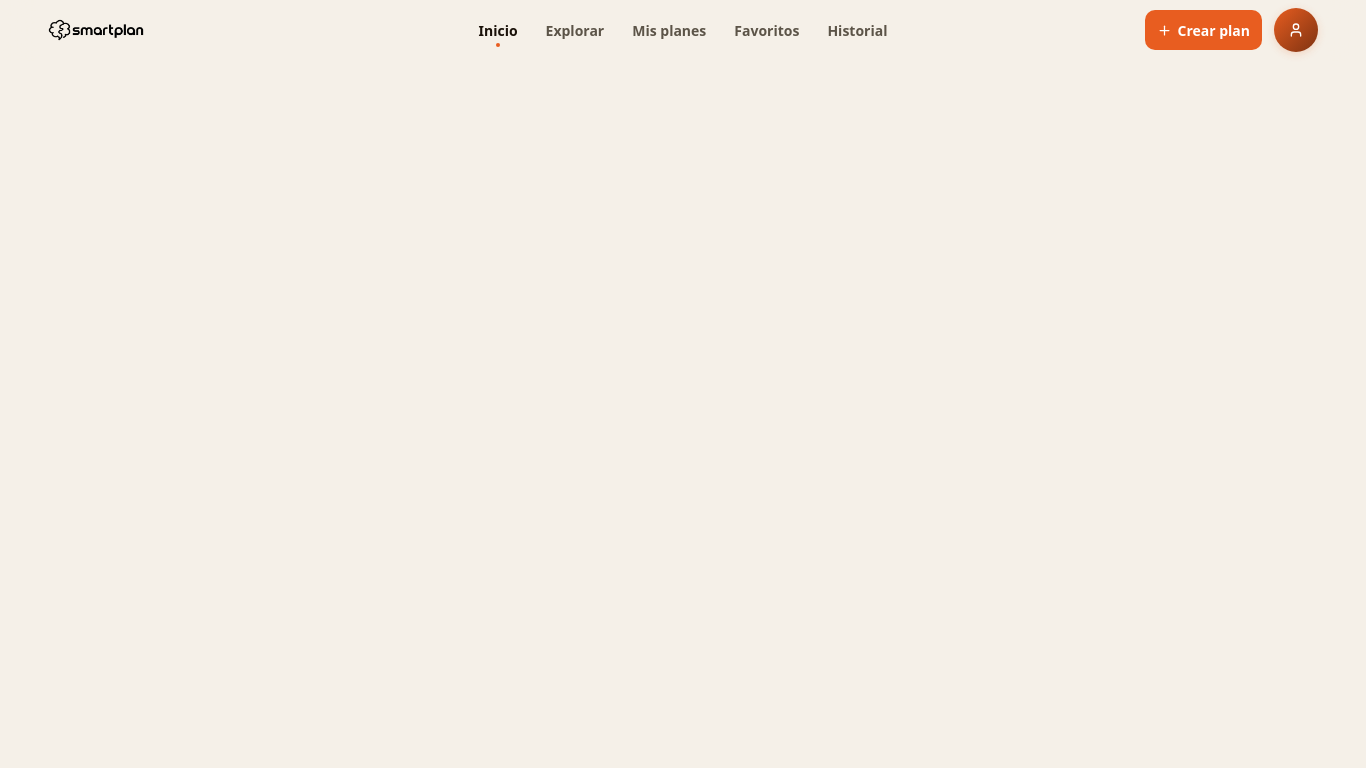
Test case: Navbar › keeps the session open when the logout confirmation is cancelled
Click the button named "mi cuenta": (1296, 30) left=1274, top=8, right=1318, bottom=52
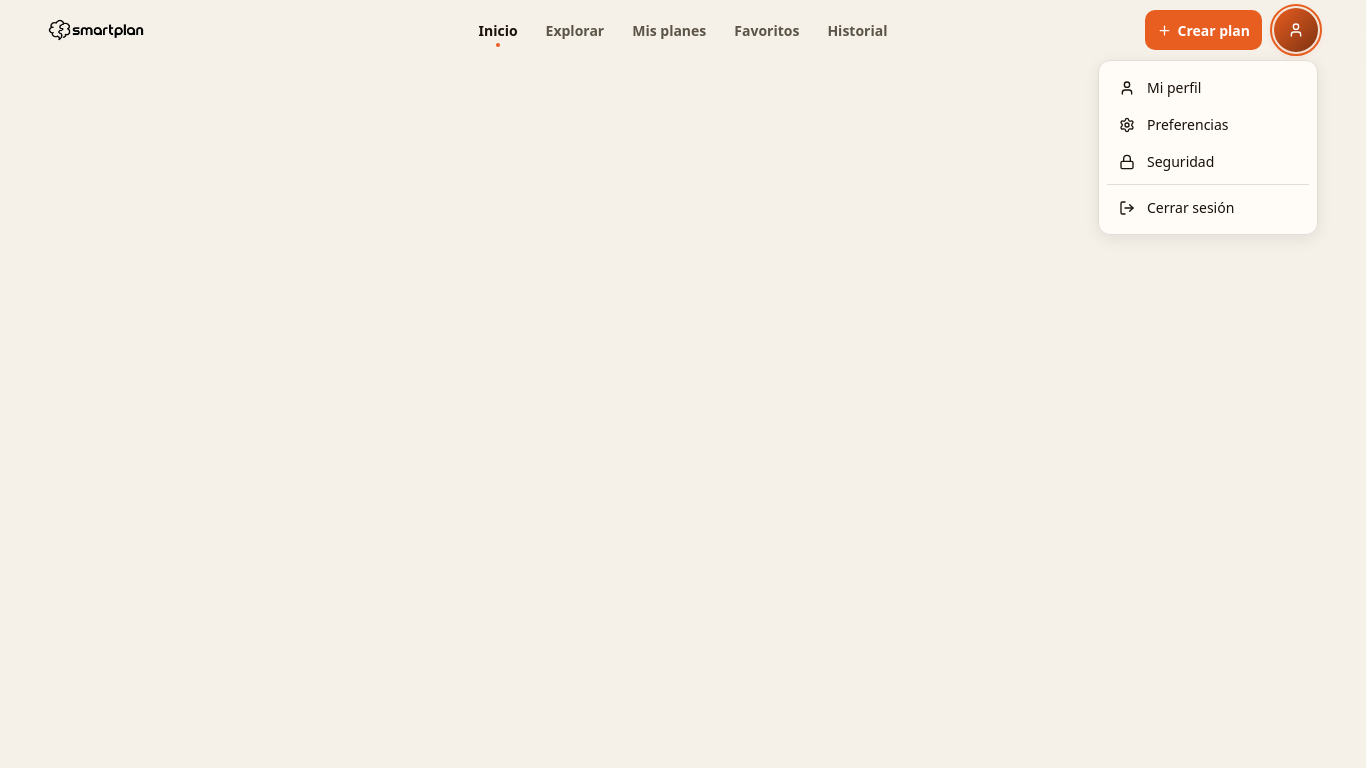
Click the button "Cerrar sesión": (1208, 208) left=1107, top=189, right=1309, bottom=226
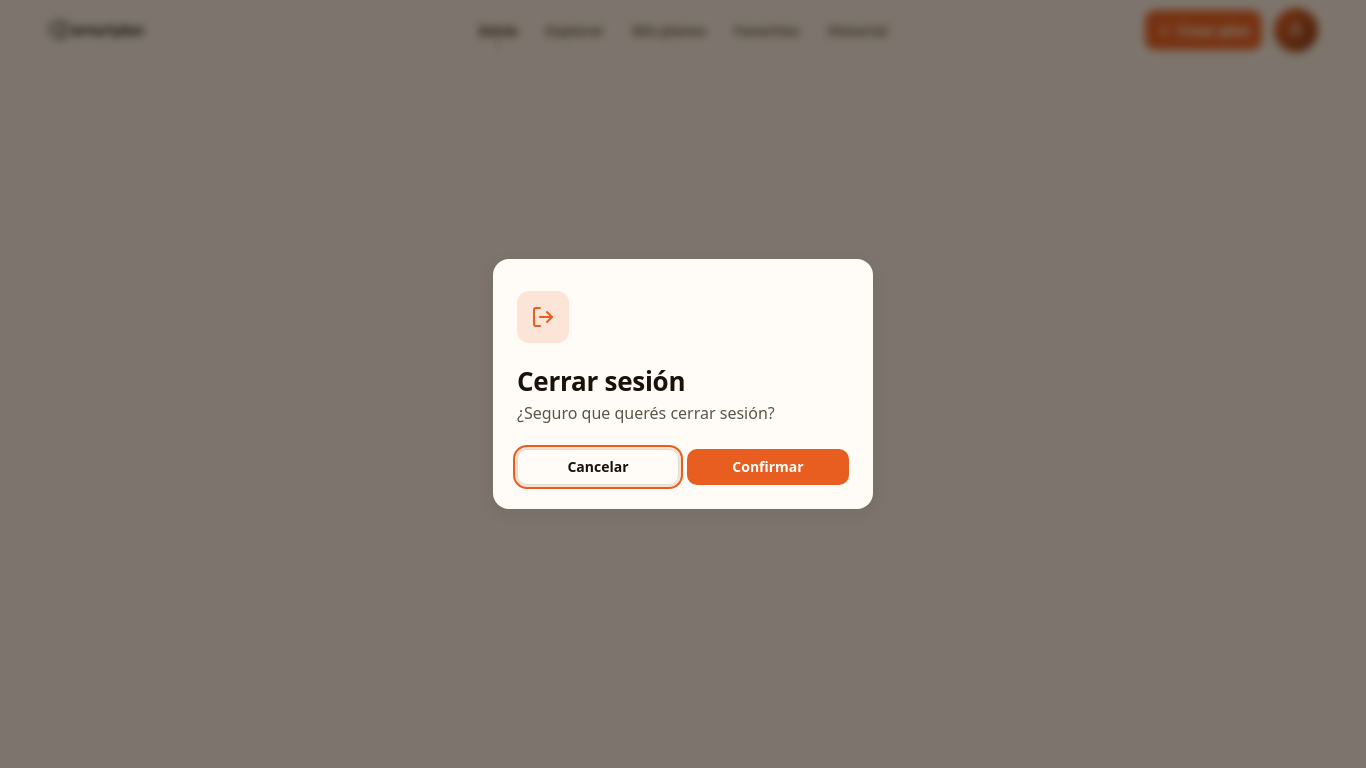
Click the button "Cancelar": (598, 467) left=517, top=449, right=679, bottom=485
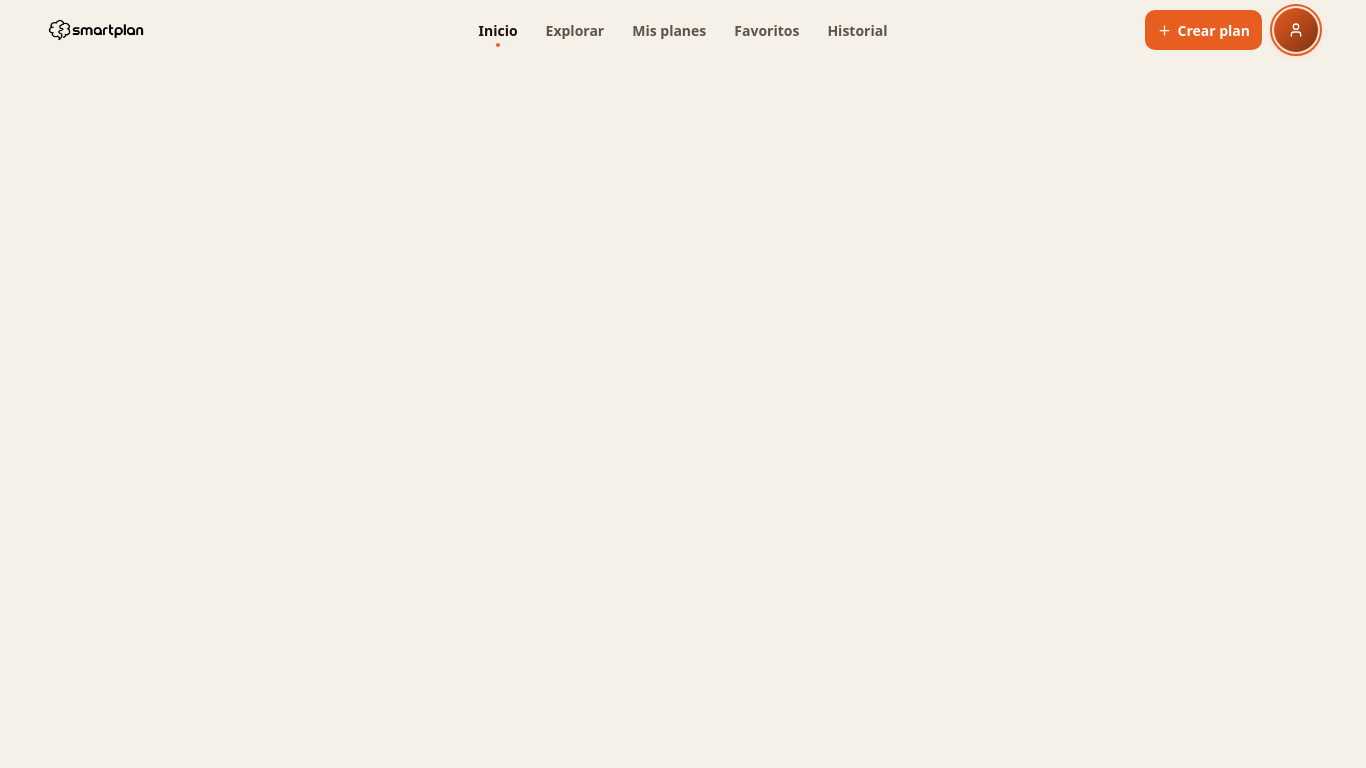
Now the heading "Cerrar sesión" is gone
